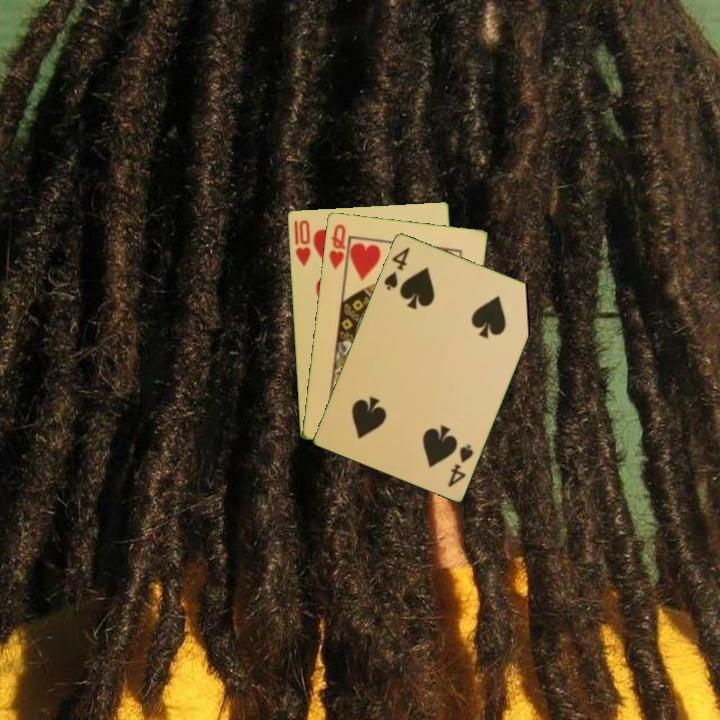10h: (290, 216, 313, 269)
4s: (380, 243, 413, 293), (444, 440, 476, 490)
Qh: (325, 221, 348, 272)
